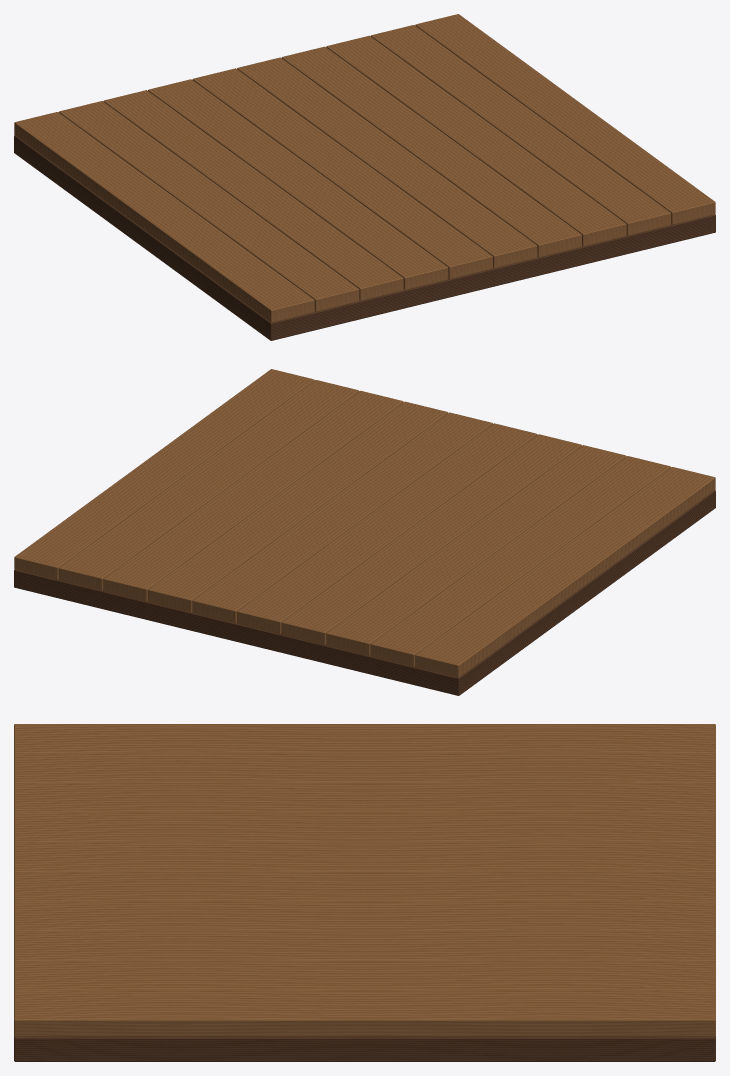
File: floor_wood.glb
3 renders of one model, top to bottom at view 1: azimuth 30°, elevation 25°; view 2: azimuth 150°, elevation 25°; view 3: azimuth 270°, elevation 25°, orthographic. The views are drawn at different scales.
Parts seen in each view (by area): view 1: floor_wood; view 2: floor_wood; view 3: floor_wood.
Part boxes in pixels (x1,y1,x2,y2): floor_wood: (14, 14, 715, 340); floor_wood: (14, 369, 715, 695); floor_wood: (14, 724, 715, 1061).
Bounding box in the file's own units: 1.8 × 0.12 × 1.8.
Materials: 2 (2 with a texture image).
